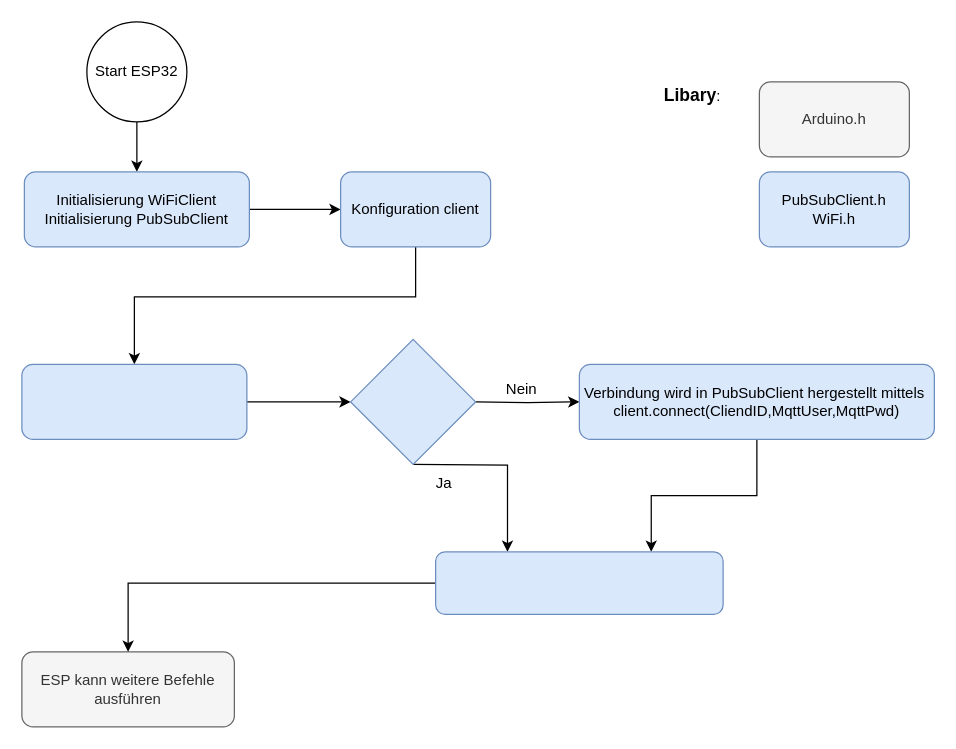
The diagram is 956 pixels wide and 749 high, and some of its shapes have lost their labels. The box of each missing label's shape, as (x1, y1, x2, y2) in pixels:
client.publish(Topic,sderialData): (434, 551, 723, 614)
Ist client verbunden?: (349, 338, 476, 464)
publishSerialData(): (21, 363, 247, 439)
